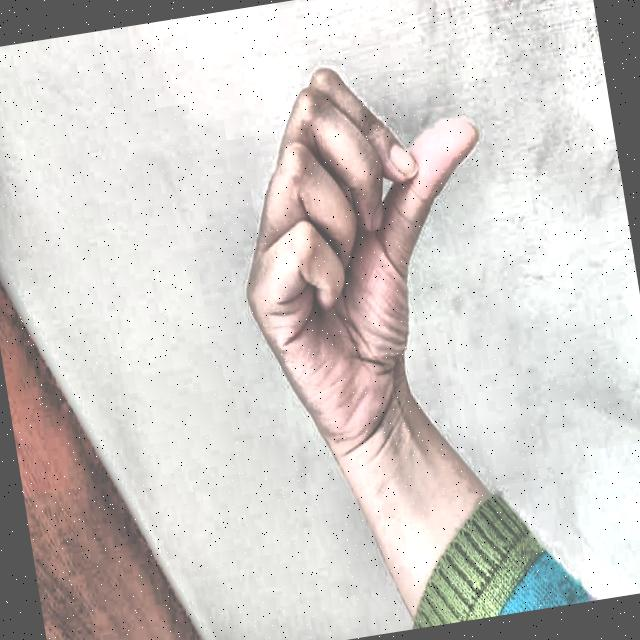Ay: (187, 21, 541, 476)
